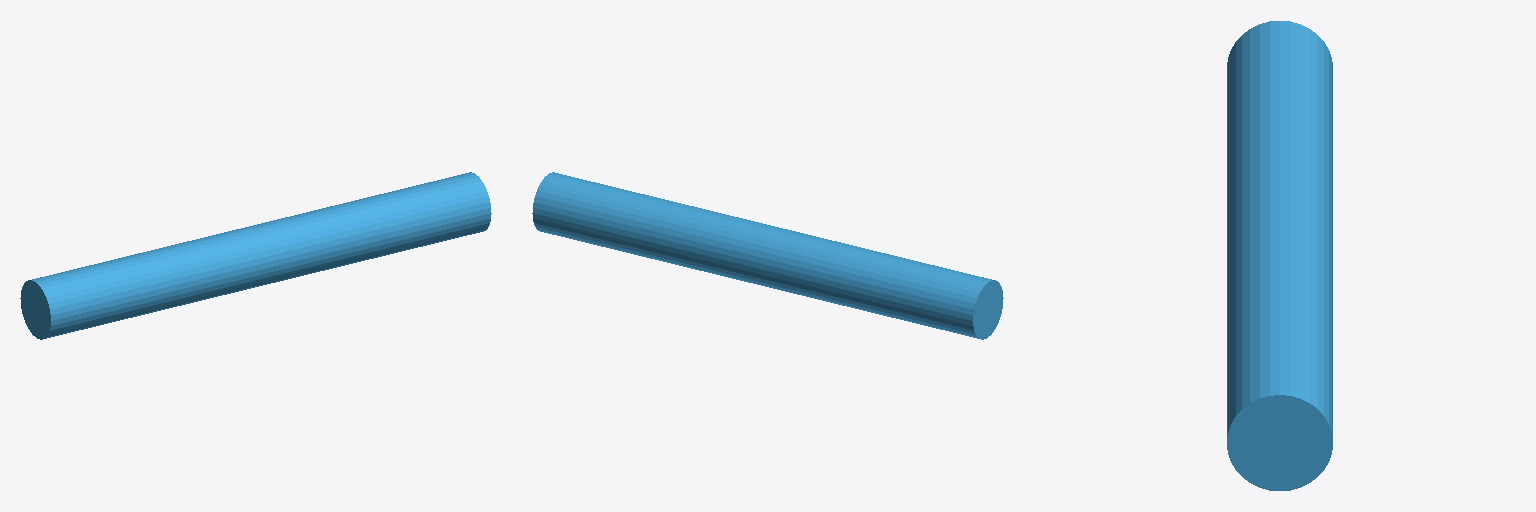
robot.urdf — abb_irb5400:
<?xml version="1.0" ?>
<!-- =================================================================================== -->
<!-- |    This document was autogenerated by xacro from irb5400.xacro                  | -->
<!-- |    EDITING THIS FILE BY HAND IS NOT RECOMMENDED                                 | -->
<!-- =================================================================================== -->
<robot name="abb_irb5400" xmlns:xacro="http://ros.org/wiki/xacro">
  <!-- Conversion were obtained from http://www.e-paint.co.uk/Lab_values.asp
       unless otherwise stated. -->
  <!-- Actual colors -->
  <!-- NCS 2070-Y60R orange, standard robot color 1974 - May 2014 -->
  <!-- RAL 7035 light grey (abb graphite white), standard robot color May 2014 - current -->
  <!-- RAL 9003 signal white (abb white), cleanroom robot color -->
  <!-- RAL 7032 pebble gray, controller -->
  <!-- RAL 7012 basalt gray (abb dark gray) , robot primer -->
  <!-- RAL 7021 black gray (abb black) , robot with dark link color -->
  <!-- Other robot colours availble, but not limited too. -->
  <!-- RAL 3001 signal red -->
  <!-- RAL 3002 carmine red -->
  <!-- RAL 5002 ultramarine blue -->
  <!-- RAL 5015 sky blue -->
  <!-- RAL 6002 leaf green -->
  <!-- RAL 9002 gray white -->
  <!-- RAL 9010 pure white -->
  <!-- approximations -->
  <!-- yellow, collision model -->
  <!-- link list -->
  <link name="base_link">
    <visual>
      <geometry>
        <mesh filename="package://abb_irb5400_support/meshes/irb5400/visual/base_link.dae"/>
      </geometry>
      <material name="">
        <color rgba="0.7372549 0.3490196 0.1607843 1"/>
      </material>
    </visual>
    <collision>
      <geometry>
        <mesh filename="package://abb_irb5400_support/meshes/irb5400/collision/base_link.stl"/>
      </geometry>
      <material name="">
        <color rgba="1 1 0 1"/>
      </material>
    </collision>

    <inertial>
        <!-- <mass value="0.683"/>
        <inertia ixx="0.684" ixy="0.0" ixz="0.0" iyy="1.612" iyz="0.0" izz="0.93"/> -->
        
        <mass value="60.266"/>
        <inertia ixx="2.13" ixy="0.0" ixz="0.0" iyy="2.665" iyz="0.0" izz="3.587"/>
    </inertial>

  </link>

  <link name="link_1">
    <visual>
      <geometry>
        <mesh filename="package://abb_irb5400_support/meshes/irb5400/visual/link_1.dae"/>
      </geometry>
      <material name="">
        <color rgba="0.7372549 0.3490196 0.1607843 1"/>
      </material>
    </visual>
    <collision>
      <geometry>
        <mesh filename="package://abb_irb5400_support/meshes/irb5400/collision/link_1.stl"/>
      </geometry>
      <material name="">
        <color rgba="1 1 0 1"/>
      </material>
    </collision>
    <inertial>
        <!-- <mass value="0.683"/>
        <inertia ixx="0.684" ixy="0.0" ixz="0.0" iyy="1.612" iyz="0.0" izz="0.93"/>
         -->
        <mass value="242.080"/>
        <inertia ixx="81.641" ixy="0.0" ixz="0.0" iyy="77.029" iyz="0.0" izz="27.631"/>
    </inertial>
  </link>

  <link name="link_2">
    <visual>
      <geometry>
        <mesh filename="package://abb_irb5400_support/meshes/irb5400/visual/link_2.dae"/>
      </geometry>
      <material name="">
        <color rgba="0.3450980 0.3647059 0.3686275 1"/>
      </material>
    </visual>
    <collision>
      <geometry>
        <mesh filename="package://abb_irb5400_support/meshes/irb5400/collision/link_2.stl"/>
      </geometry>
      <material name="">
        <color rgba="1 1 0 1"/>
      </material>
    </collision>
    <inertial>
        <!-- <mass value="0.683"/>
        <inertia ixx="0.684" ixy="0.0" ixz="0.0" iyy="1.612" iyz="0.0" izz="0.93"/> -->
        
        <mass value="108.861"/>
        <inertia ixx="187.884" ixy="0.0" ixz="0.0" iyy="198.517" iyz="0.0" izz="12.300"/>
    </inertial>
  </link>

  <link name="link_3">
    <visual>
      <geometry>
        <mesh filename="package://abb_irb5400_support/meshes/irb5400/visual/link_3.dae"/>
      </geometry>
      <material name="">
        <color rgba="0.7372549 0.3490196 0.1607843 1"/>
      </material>
    </visual>
    <collision>
      <geometry>
        <mesh filename="package://abb_irb5400_support/meshes/irb5400/collision/link_3.stl"/>
      </geometry>
      <material name="">
        <color rgba="1 1 0 1"/>
      </material>
    </collision>
    <inertial>
        <!-- <mass value="0.683"/>
        <inertia ixx="0.684" ixy="0.0" ixz="0.0" iyy="1.612" iyz="0.0" izz="0.93"/> -->
        
        <mass value="131.343"/>
        <inertia ixx="584.225" ixy="0.0" ixz="0.0" iyy="688.283" iyz="0.0" izz="108.136"/>
    </inertial>
  </link>

  <link name="link_4">
    <visual>
      <geometry>
        <mesh filename="package://abb_irb5400_support/meshes/irb5400/visual/link_4.dae"/>
      </geometry>
      <material name="">
        <color rgba="0.3450980 0.3647059 0.3686275 1"/>
      </material>
    </visual>
    <collision>
      <geometry>
        <mesh filename="package://abb_irb5400_support/meshes/irb5400/collision/link_4.stl"/>
      </geometry>
      <material name="">
        <color rgba="1 1 0 1"/>
      </material>
    </collision>
    <inertial>
    
        <!-- <mass value="0.683"/>
        <inertia ixx="0.684" ixy="0.0" ixz="0.0" iyy="1.612" iyz="0.0" izz="0.93"/> -->
        
        <mass value="1.687"/>
        <inertia ixx="7.352" ixy="0.0" ixz="0.0" iyy="15.456" iyz="0.0" izz="8.111"/>
    </inertial>
  </link>
  
  <link name="link_5">
    <visual>
      <geometry>
        <mesh filename="package://abb_irb5400_support/meshes/irb5400/visual/link_5.dae"/>
      </geometry>
      <material name="">
        <color rgba="0.3450980 0.3647059 0.3686275 1"/>
      </material>
    </visual>
    <collision>
      <geometry>
        <mesh filename="package://abb_irb5400_support/meshes/irb5400/collision/link_5.stl"/>
      </geometry>
      <material name="">
        <color rgba="1 1 0 1"/>
      </material>
    </collision>
    <inertial>
        <!-- <mass value="0.683"/>
        <inertia ixx="0.684" ixy="0.0" ixz="0.0" iyy="1.612" iyz="0.0" izz="0.93"/> -->
        
        <mass value="2.918"/>
        <inertia ixx="12.210" ixy="0.0" ixz="0.0" iyy="27.389" iyz="0.0" izz="15.193"/>
    </inertial>
  </link>

  <link name="link_5b">
    <visual>
      <geometry>
        <mesh filename="package://abb_irb5400_support/meshes/irb5400/visual/link_5b.dae"/>
      </geometry>
      <material name="">
        <color rgba="0.3450980 0.3647059 0.3686275 1"/>
      </material>
    </visual>
    <collision>
      <geometry>
        <mesh filename="package://abb_irb5400_support/meshes/irb5400/collision/link_5b.stl"/>
      </geometry>
      <material name="">
        <color rgba="1 1 0 1"/>
      </material>
    </collision>
    <inertial>
        <!-- <mass value="0.683"/>
        <inertia ixx="0.684" ixy="0.0" ixz="0.0" iyy="1.612" iyz="0.0" izz="0.93"/> -->
        
        <mass value="1.222"/>
        <inertia ixx="5.313" ixy="0.0" ixz="0.0" iyy="12.131" iyz="0.0" izz="6.823"/>
    </inertial>
  </link>

  <link name="link_6">
    <visual>
      <geometry>
        <mesh filename="package://abb_irb5400_support/meshes/irb5400/visual/link_6.dae"/>
      </geometry>
      <material name="">
        <color rgba="0.1882353 0.1960784 0.2039216 1"/>
      </material>
    </visual>
    <collision>
      <geometry>
        <mesh filename="package://abb_irb5400_support/meshes/irb5400/collision/link_6.stl"/>
      </geometry>
      <material name="">
        <color rgba="1 1 0 1"/>
      </material>
    </collision>
    <inertial>
        <mass value="0.683"/>
        <!-- <inertia ixx="0.684" ixy="0.0" ixz="0.0" iyy="1.612" iyz="0.0" izz="0.93"/> -->
        <inertia ixx="0.684" ixy="0.0" ixz="0.0" iyy="1.612" iyz="0.0" izz="0.93"/>
    </inertial>
  </link>
  
  <link name="tool0"/>
  <!-- end of link list -->

   <!-- start new link --> 
    <link name="link_4_new">
        <visual>
            <geometry>
                <cylinder length="1" radius="0.06"/>
            </geometry>
            <origin rpy="0 1.57 0" xyz="0 0 0"/>
            <material name="yellow" />
        </visual>
        
        <collision>
            <geometry>
                <cylinder length="1" radius="0.06"/>
            </geometry>
        </collision>

        <inertial>
            <!-- <mass value="0.683"/>
            <inertia ixx="0.684" ixy="0.0" ixz="0.0" iyy="1.612" iyz="0.0" izz="0.93"/> -->
           <mass value="5.696"/>
           <inertia ixx="24.452" ixy="0.0" ixz="0.0" iyy="45.056" iyz="0.0" izz="20.617"/>
        </inertial>
    </link>
    <!-- 1 metro de largo. 0.5 dentro y 0.5 afuera -->
    <!-- diametro 160.000 mm-->
    
    <!-- end new link -->


  <!-- joint list -->
  <joint name="joint1" type="revolute">
    <parent link="base_link"/>
    <child link="link_1"/>
    <origin rpy="0 0 0" xyz="0 0 0"/>
    <axis xyz="0 0 1"/>
    <limit effort="100" lower="-2.617" upper="2.617" velocity="2.3911"/>
  </joint>
  <joint name="joint2" type="revolute">
    <parent link="link_1"/>
    <child link="link_2"/>
    <origin rpy="0 0 0" xyz="0.300 0 0.660"/>
    <axis xyz="0 1 0"/>
    <limit effort="100" lower="-1.396" upper="1.396" velocity="2.3911"/>
  </joint>
  <joint name="joint3" type="revolute">
    <parent link="link_2"/>
    <child link="link_3"/>
    <origin rpy="0 0 0" xyz="0 0 1.200"/>
    <axis xyz="0 1 0"/>
    <limit effort="100" lower="-1.308" upper="1.308" velocity="2.3911"/>
  </joint>
  <!-- .............................................................................. -->
    <!-- joinit new -->

    <joint name="joint4_new" type="prismatic">
        <parent link="link_3"/>
        <child link="link_4_new"/>
        <origin xyz="1.339 0 0.186" rpy="0 0 0"/>
        <axis xyz="1 0 0" />
        <limit effort="10" lower="-0.44" upper="0.44" velocity="0.1" />
    </joint>
    <!-- joint new end -->
    <!-- .............................................................................. -->
    
  
  
  <joint name="joint4" type="revolute">
    <parent link="link_4_new"/>
    <child link="link_4"/>
    <origin xyz="0.5 0 0" rpy="0 0 0"/>
    <axis xyz="1 0 0"/>
    <limit effort="100" lower="-6.0" upper="6.0" velocity="8.1157"/>
  </joint>
  <joint name="joint5" type="revolute">
    <parent link="link_4"/>
    <child link="link_5"/>
    <origin rpy="0 0.6109 0" xyz="0.0693 0 0"/>
    <axis xyz="1 0 0"/>
    <limit effort="100" lower="-6.0" upper="6.0" velocity="6.1086"/>
  </joint>
  <joint name="joint5b" type="fixed">
    <parent link="link_5"/>
    <child link="link_5b"/>
    <origin rpy="0 -1.2217 0" xyz=".106246 0 0.074394"/>
  </joint>
  <joint name="joint6" type="revolute">
    <parent link="link_5b"/>
    <child link="link_6"/>
    <origin rpy="0 0.6109 0" xyz="0.0672 0 -0.0470"/>
    <axis xyz="1 0 0"/>
    <limit effort="100" lower="-6.0" upper="6.0" velocity="9.3375"/>
  </joint>
  <joint name="joint_6-tool0" type="fixed">
    <parent link="link_6"/>
    <child link="tool0"/>
    <origin rpy="0 1.57079632679 0" xyz="0 0 0"/>
  </joint>
  <!-- end of joint list -->
  <!-- ROS base_link to ABB World Coordinates transform -->
  <link name="base"/>
  <joint name="base_link-base" type="fixed">
    <origin rpy="0 0 0" xyz="0 0 0"/>
    <parent link="base_link"/>
    <child link="base"/>
  </joint>
</robot>

--- What the picture shows (computed from the rendered views, not written in the file) ---
3 views of the same robot in one strip: view 1: azimuth 30°, elevation 25°; view 2: azimuth 150°, elevation 25°; view 3: azimuth 270°, elevation 25° (orthographic).
Robot: abb_irb5400 — 11 links, 10 joints (6 revolute, 1 prismatic, 3 fixed); root link base_link; default pose: every joint at zero.
Links seen in each view (by area): view 1: link_4_new; view 2: link_4_new; view 3: link_4_new.
Boxes of the visible links, <box> form: link_4_new: <box>20,172,491,339</box>; link_4_new: <box>532,172,1003,339</box>; link_4_new: <box>1227,21,1332,490</box>.
Bounding box of the posed robot: 1 × 0.12 × 0.1208 m (x, y, z).
0 mesh visuals loaded from 8 distinct referenced files (none loaded); not drawn: 8 (reference not matched to a file when rendering).